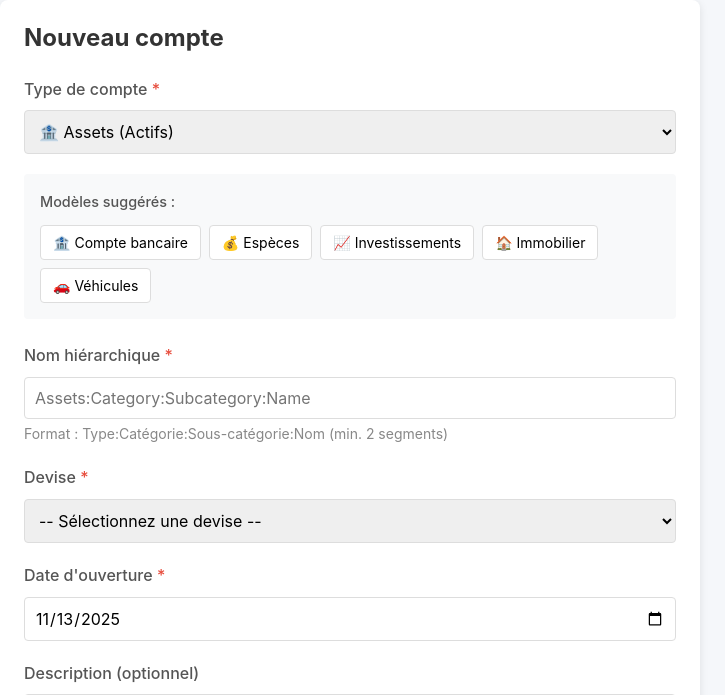
Test: AccountForm - Mode Ajout › devrait appliquer un modèle au nom du compte
# Cliquer sur le modèle "Espèces"
Click the button "💰 Espèces": (261, 243) [209, 225, 312, 260]
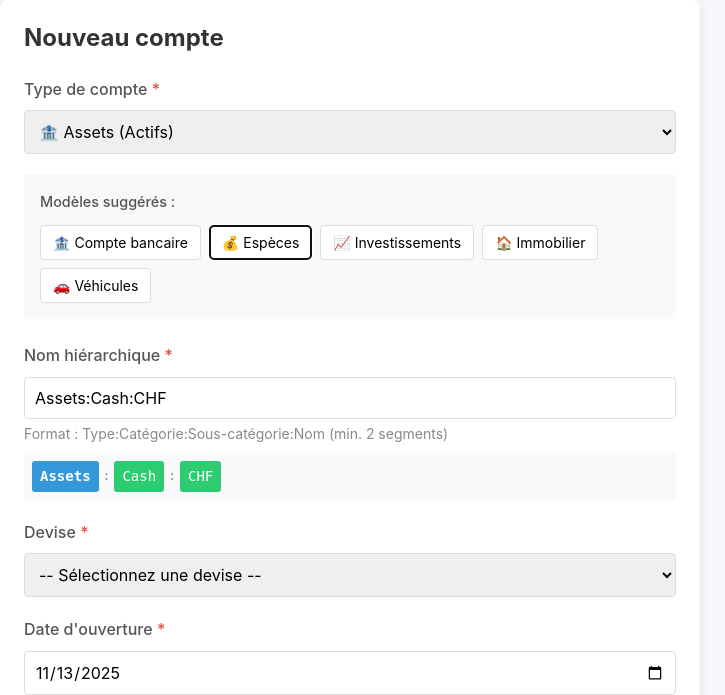
Now the field labelled "Nom hiérarchique *" holds "Assets:Cash:CHF", box [24, 377, 676, 419]
